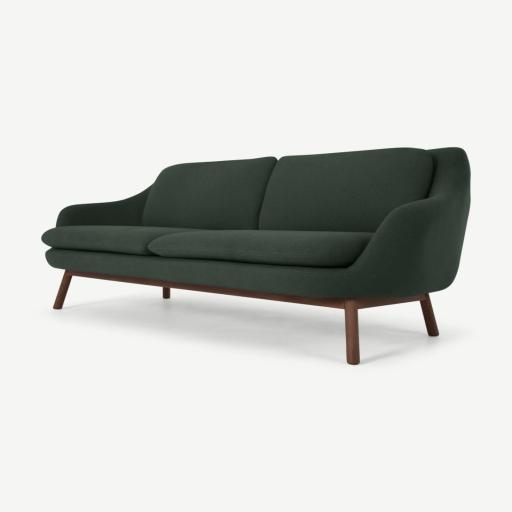back_cushion: (144, 149, 432, 231)
base: (46, 249, 348, 297)
left_arm: (304, 148, 469, 298)
legs: (53, 270, 438, 364)
right_arm: (56, 187, 151, 226)
seat_cushion: (42, 225, 372, 268)
two-seater: (0, 0, 511, 512)
